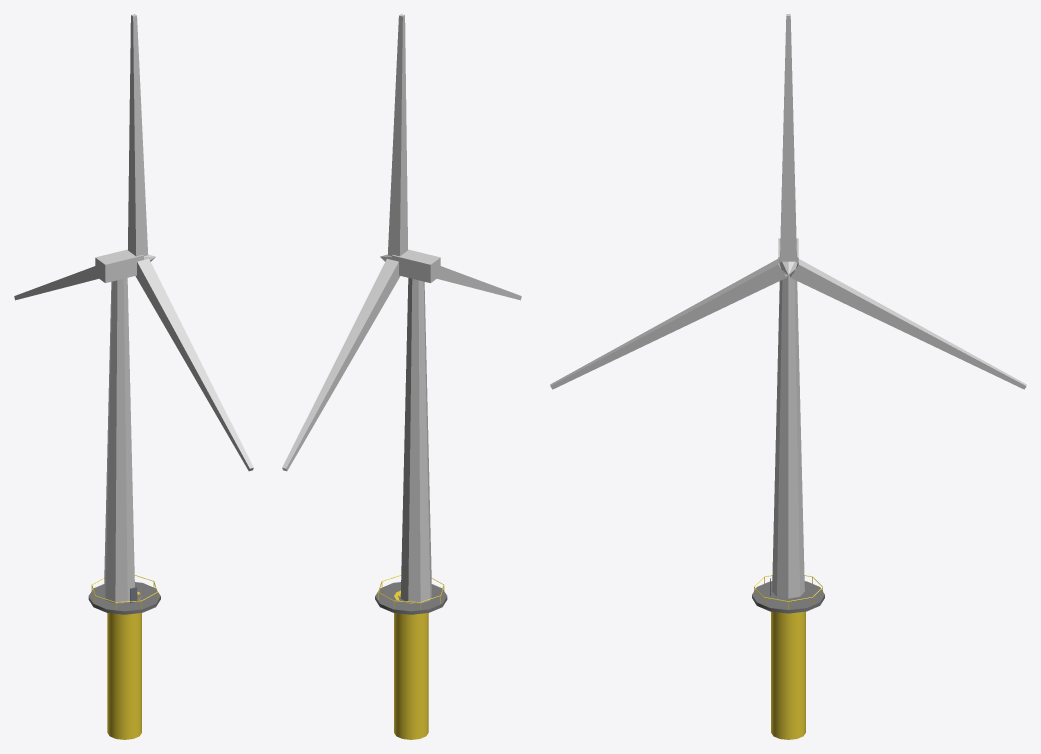
The model's file is top-prebuilt.fbx.
3 renders of one model, left to right at view 1: azimuth 30°, elevation 25°; view 2: azimuth 150°, elevation 25°; view 3: azimuth 270°, elevation 25°, orthographic.
Visible parts, largest first — view 1: a1071/0/top-prebuilt, rotor_a1071; view 2: a1071/0/top-prebuilt, rotor_a1071; view 3: a1071/0/top-prebuilt, rotor_a1071.
Part boxes in pixels (x1=…): a1071/0/top-prebuilt: x1=88, y1=249, x2=160, y2=739; rotor_a1071: x1=14, y1=14, x2=253, y2=471; a1071/0/top-prebuilt: x1=375, y1=249, x2=447, y2=739; rotor_a1071: x1=282, y1=14, x2=521, y2=471; a1071/0/top-prebuilt: x1=752, y1=238, x2=824, y2=739; rotor_a1071: x1=550, y1=14, x2=1026, y2=389.
Size of the model in its own units: 9.63 by 105 by 62.6.
